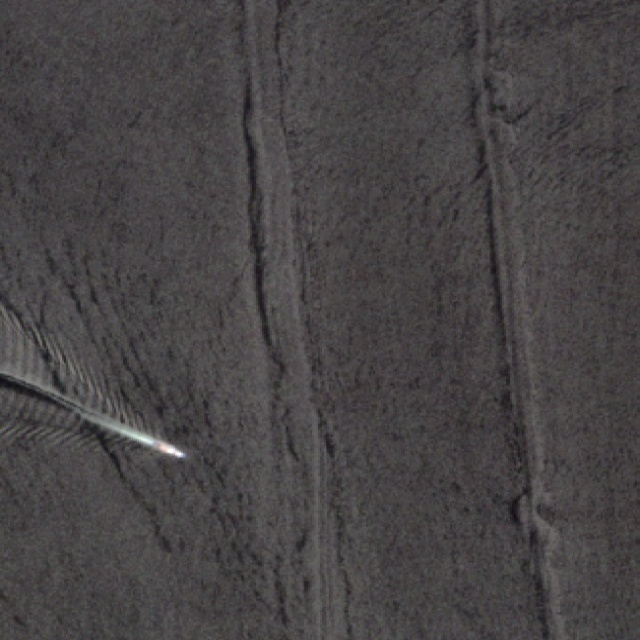wake: (11, 335, 223, 516)
